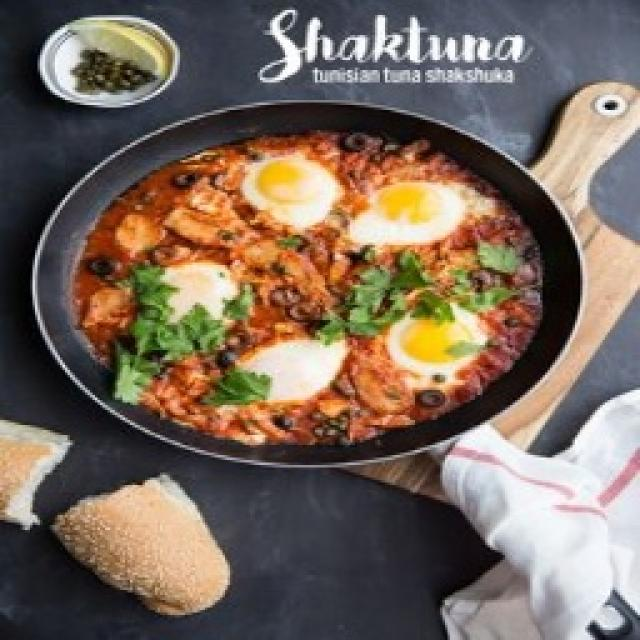Chakchouka: (60, 120, 548, 462)
